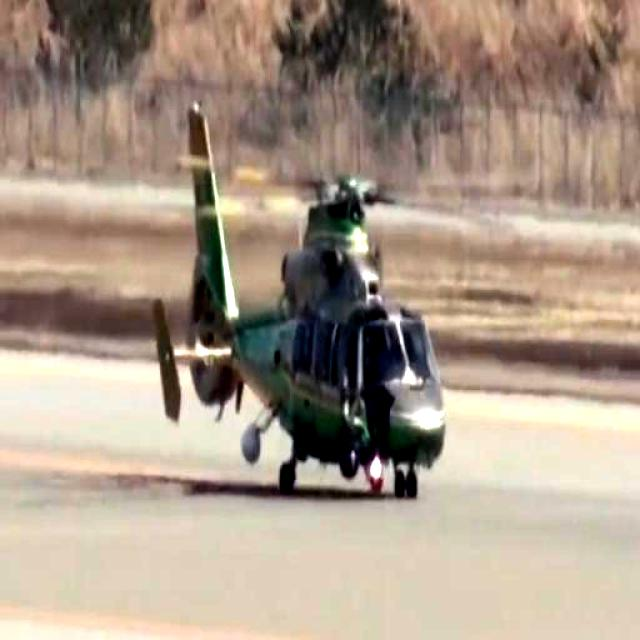drone: (148, 81, 461, 519)
